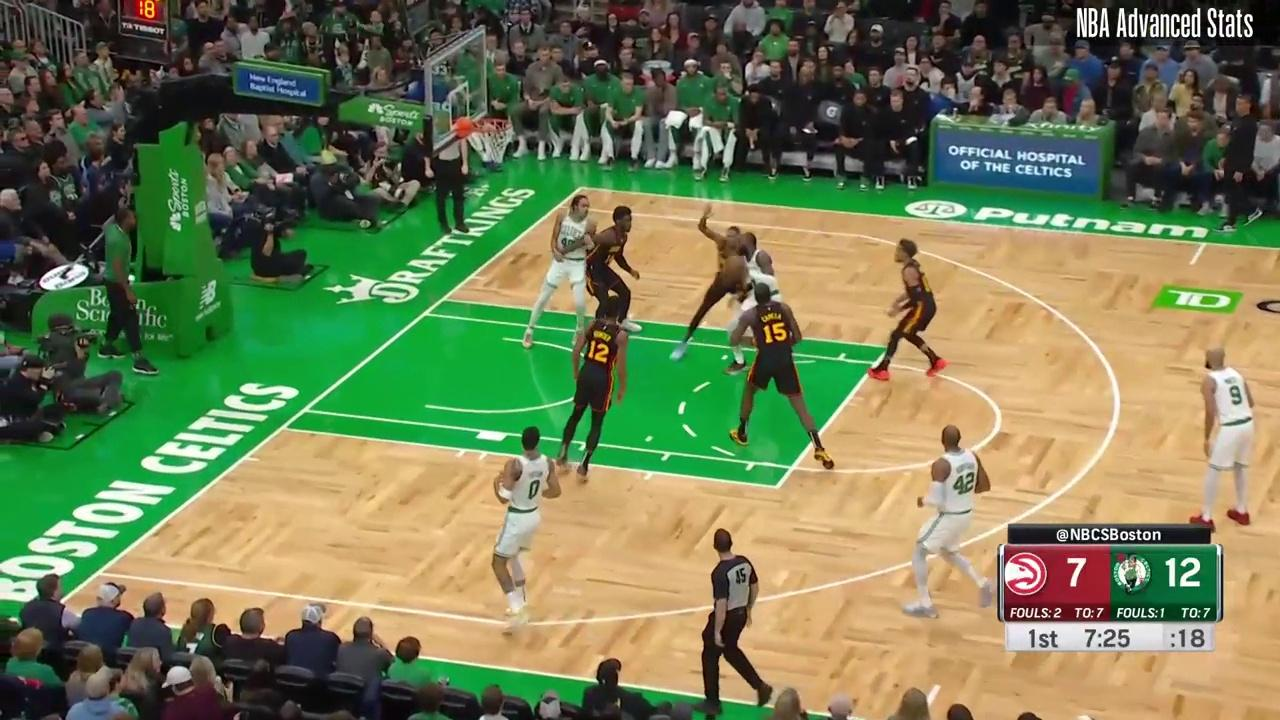3_dx: (554, 202, 563, 211)
3_sx: (93, 566, 106, 578)
b_dx: (577, 183, 585, 191)
free_asx: (771, 481, 783, 492)
free_bdx: (438, 292, 450, 304)
free_bsx: (278, 422, 289, 433)
mid_dx: (1185, 259, 1197, 268)
mid_sx: (933, 678, 944, 689)
referee: (694, 529, 773, 710), (424, 111, 470, 235), (1080, 623, 1135, 650)
team: (902, 424, 992, 618), (492, 425, 561, 635), (1188, 343, 1254, 527), (522, 193, 596, 348), (725, 231, 782, 375)
team1: (727, 281, 834, 470), (555, 295, 630, 485), (669, 199, 752, 360), (867, 238, 948, 381), (586, 207, 644, 336)
